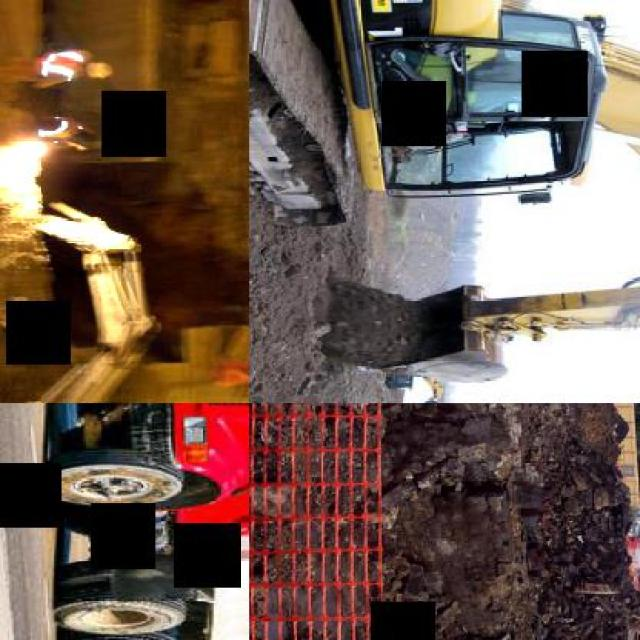dump_truck: (39, 403, 248, 639)
excavator: (250, 0, 638, 386), (0, 196, 163, 402)
